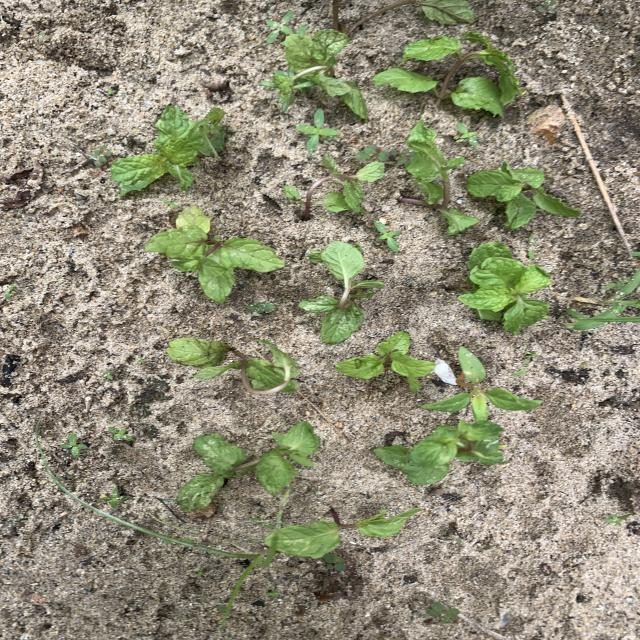crop: (145, 207, 283, 301), (177, 422, 319, 511), (374, 32, 523, 115), (110, 106, 226, 194), (422, 347, 542, 421), (403, 120, 478, 233), (458, 242, 551, 333), (299, 242, 383, 342), (375, 421, 507, 483), (466, 160, 579, 227), (268, 508, 419, 558), (285, 27, 366, 119), (168, 339, 299, 391), (284, 157, 385, 215), (336, 332, 418, 386), (332, 0, 420, 34), (420, 0, 474, 25)
weed: (52, 477, 263, 628), (258, 70, 312, 111), (297, 110, 339, 151), (266, 11, 294, 42), (376, 221, 399, 251), (428, 602, 459, 623), (62, 433, 87, 458), (101, 488, 129, 507), (456, 123, 478, 147), (356, 146, 391, 160), (108, 426, 134, 441), (325, 554, 345, 571), (91, 147, 111, 163), (246, 302, 275, 313), (390, 149, 412, 163), (254, 517, 276, 528), (605, 514, 630, 523), (538, 1, 555, 14), (1, 284, 15, 299), (523, 351, 538, 363), (164, 200, 178, 207), (101, 371, 113, 379), (267, 590, 279, 597), (106, 87, 115, 94), (581, 360, 587, 366), (136, 359, 143, 363)
